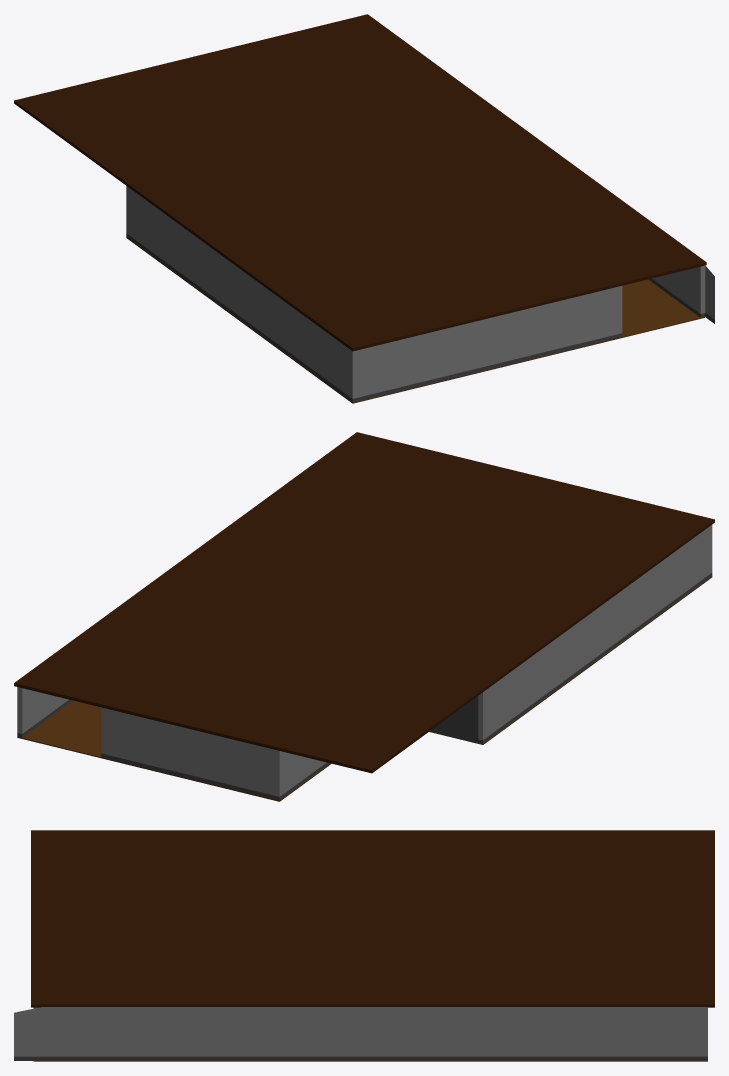
File: Shell_Level(1).fbx
3 renders of one model, top to bottom at view 1: azimuth 30°, elevation 25°; view 2: azimuth 150°, elevation 25°; view 3: azimuth 270°, elevation 25°, orthographic.
Parts seen in each view (by area): view 1: Cube.063, Cube.005, Cube.002; view 2: Cube.063, Cube.005, Cube.004, Cube.002, Cube.008; view 3: Cube.063, Cube.005, Cube.002.
Part boxes in pixels (x1=…): Cube.063: x1=14, y1=14, x2=706, y2=351; Cube.005: x1=126, y1=186, x2=714, y2=402; Cube.002: x1=126, y1=237, x2=704, y2=403; Cube.063: x1=14, y1=432, x2=714, y2=773; Cube.005: x1=17, y1=525, x2=712, y2=744; Cube.004: x1=101, y1=707, x2=330, y2=800; Cube.002: x1=17, y1=576, x2=712, y2=757; Cube.008: x1=429, y1=696, x2=478, y2=743; Cube.063: x1=31, y1=830, x2=714, y2=1007; Cube.005: x1=14, y1=1007, x2=707, y2=1060; Cube.002: x1=33, y1=1061, x2=707, y2=1061.
Size of the model in its own units: 3413 by 526 by 5802.
